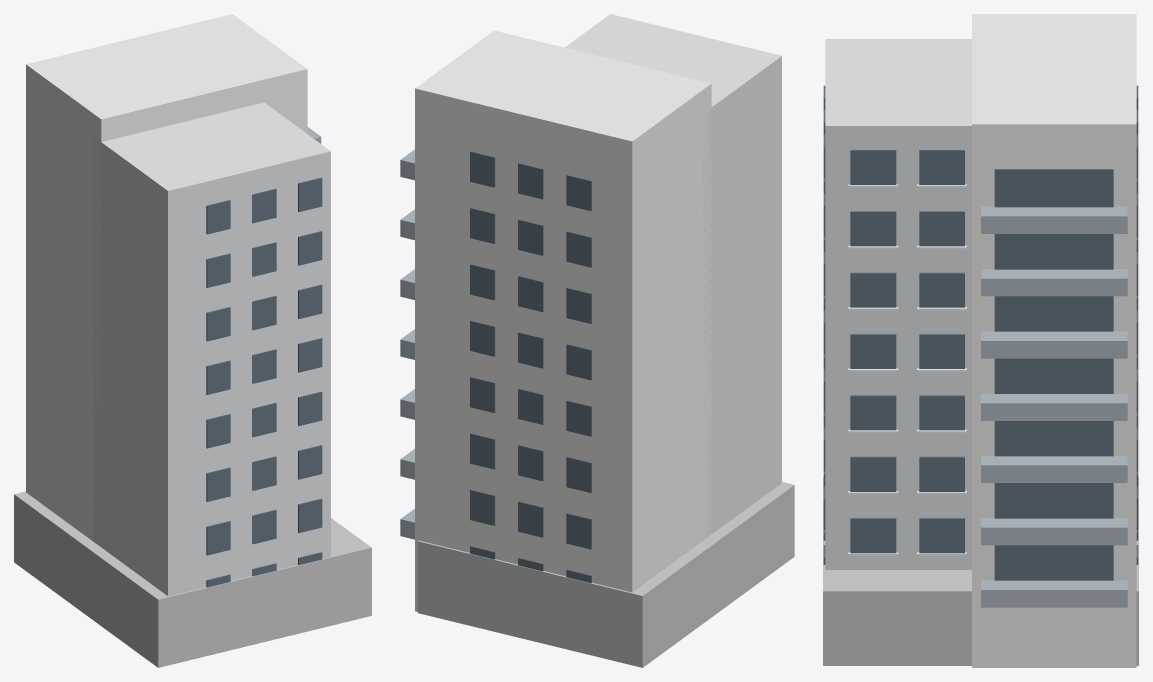
Rendered from rambla_building_10.glb.
The picture shows the model from 3 angles, left to right: view 1: azimuth 30°, elevation 25°; view 2: azimuth 150°, elevation 25°; view 3: azimuth 270°, elevation 25°; orthographic projection. The views are drawn at different scales.
Visible parts, largest first — view 1: RamblaBuilding_10; view 2: RamblaBuilding_10; view 3: RamblaBuilding_10.
Part boxes in pixels (<box>): RamblaBuilding_10: <box>14,14,371,667</box>; RamblaBuilding_10: <box>400,14,794,667</box>; RamblaBuilding_10: <box>823,14,1138,667</box>.
Size of the model in its own units: 13 by 26.2 by 13.8.
